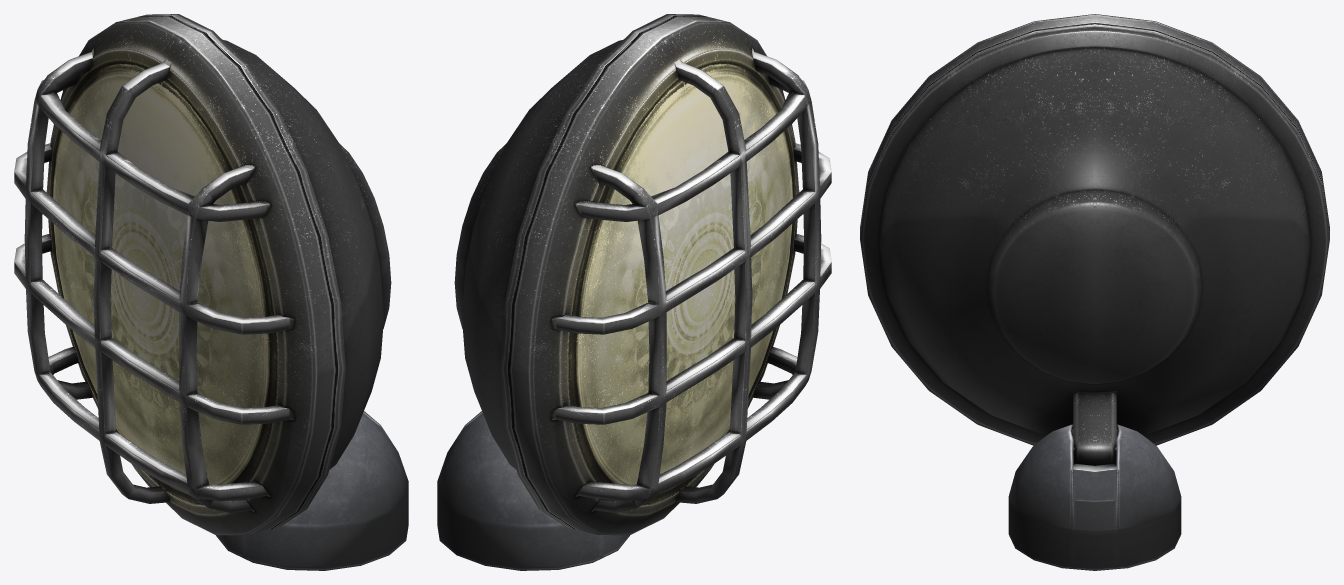
The model's file is headlight.dae.
3 renders of one model, left to right at view 1: azimuth 30°, elevation 25°; view 2: azimuth 150°, elevation 25°; view 3: azimuth 270°, elevation 25°, orthographic. The views are drawn at different scales.
Visible parts, largest first — view 1: Spotlight; view 2: Spotlight; view 3: Spotlight.
Boxes of the visible parts, bbox=[...] form: Spotlight: bbox=[14, 14, 408, 570]; Spotlight: bbox=[437, 14, 831, 570]; Spotlight: bbox=[860, 14, 1329, 570].
Bounding box in the file's own units: 0.0617 × 0.0943 × 0.1029.
